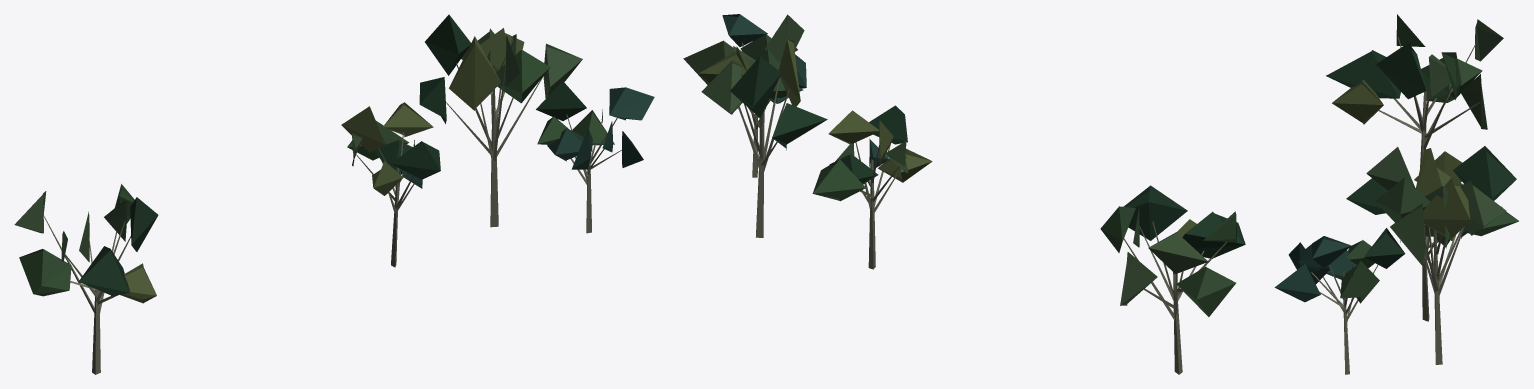
The model's file is forest_19_27.dae.
The picture shows the model from 3 angles, left to right: view 1: azimuth 30°, elevation 25°; view 2: azimuth 150°, elevation 25°; view 3: azimuth 270°, elevation 25°; orthographic projection. The views are drawn at different scales.
Visible parts, largest first — view 1: Node; view 2: Node; view 3: Node.
Part boxes in pixels (x1,y1,x2,y2): Node: (14, 14, 654, 374); Node: (683, 14, 1245, 374); Node: (1274, 14, 1518, 374).
Size of the model in its own units: 7.83 by 2.89 by 3.33.
